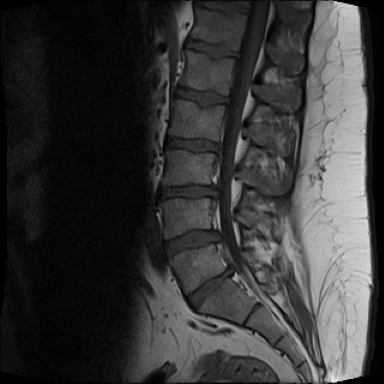Degenerative Disc Disease (DDD): (186, 263, 242, 315)
Lumbar Disc Bulge (LDB): (182, 259, 241, 321), (155, 221, 229, 268), (151, 128, 228, 155), (148, 178, 227, 204)
Normal IVD: (167, 77, 233, 108), (180, 28, 243, 56)
Spinal Stenosis (SS): (210, 131, 234, 159), (208, 177, 228, 205), (225, 261, 240, 287), (212, 227, 228, 250)
